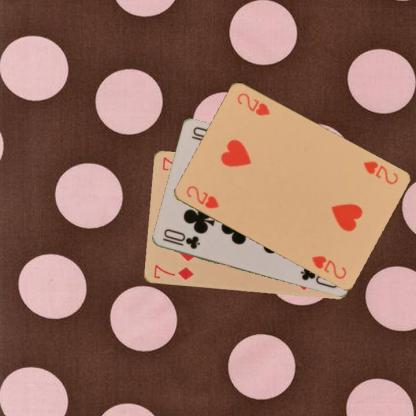10c: (160, 226, 201, 251)
2h: (361, 158, 399, 186), (183, 183, 220, 210)
7d: (151, 262, 194, 282)
